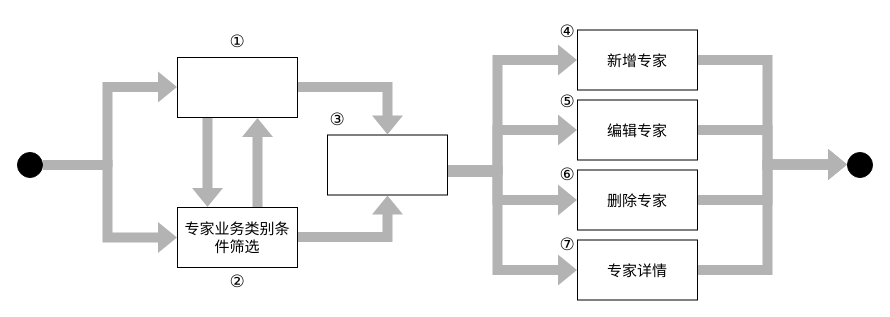
Some shapes in this 890 by 317 pixel diagram are drawn without their labels. Here are the shapes that lost their labels. From the top down, the centre of each, then its label:
At (x=237, y=87): "输入关键字".
At (x=387, y=164): "专家清单".
